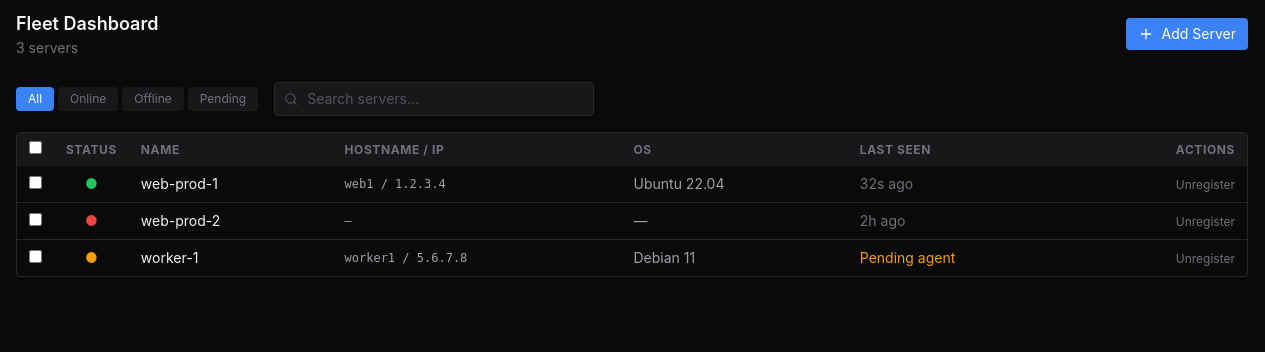
Scenario: DashboardPage › selects all checkboxes when header checkbox clicked
Click the checkbox next to "Status".
click(36, 148)  # box [29,141,42,154]
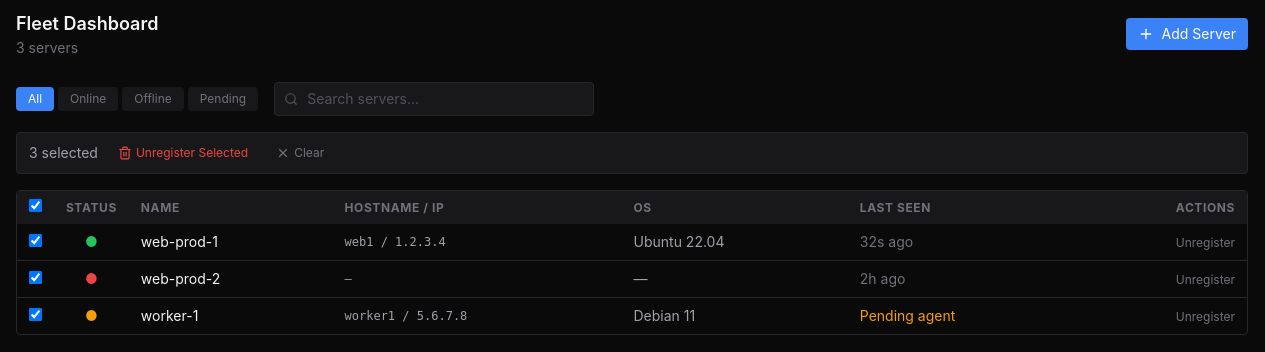
Expected: the text "3 selected" is shown, [29,143,98,163]
